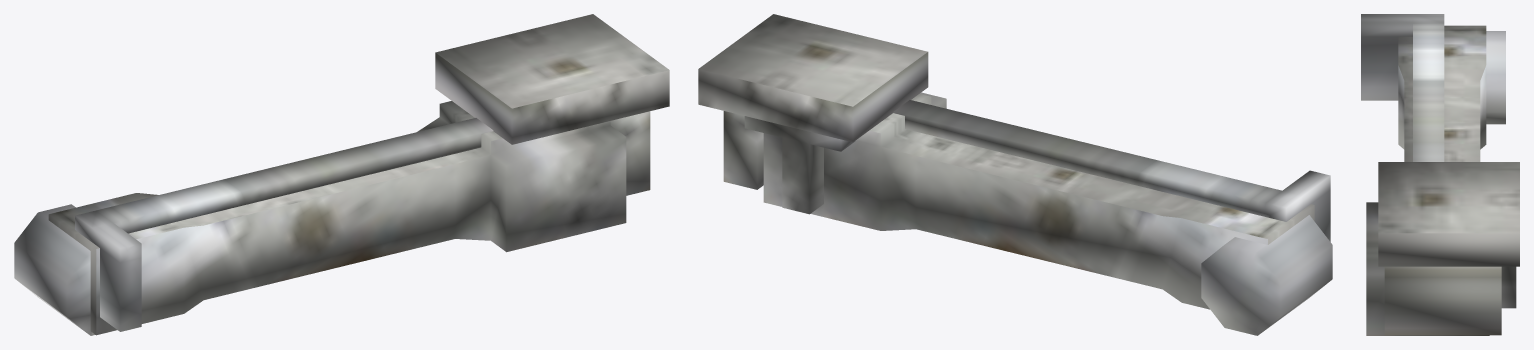
Rendered from dextre_arm_1_elbow_pitch.dae.
3 renders of one model, left to right at view 1: azimuth 30°, elevation 25°; view 2: azimuth 150°, elevation 25°; view 3: azimuth 270°, elevation 25°, orthographic. The views are drawn at different scales.
Visible parts, largest first — view 1: 29 DEXTRE.013; view 2: 29 DEXTRE.013; view 3: 29 DEXTRE.013.
Boxes of the visible parts, x1,y1,x2,y2 form: 29 DEXTRE.013: (14, 14, 669, 335); 29 DEXTRE.013: (698, 14, 1332, 335); 29 DEXTRE.013: (1361, 14, 1519, 335).
Bounding box in the file's own units: 1.46 × 0.3718 × 0.3348.
Materials: 1 (1 with a texture image).
